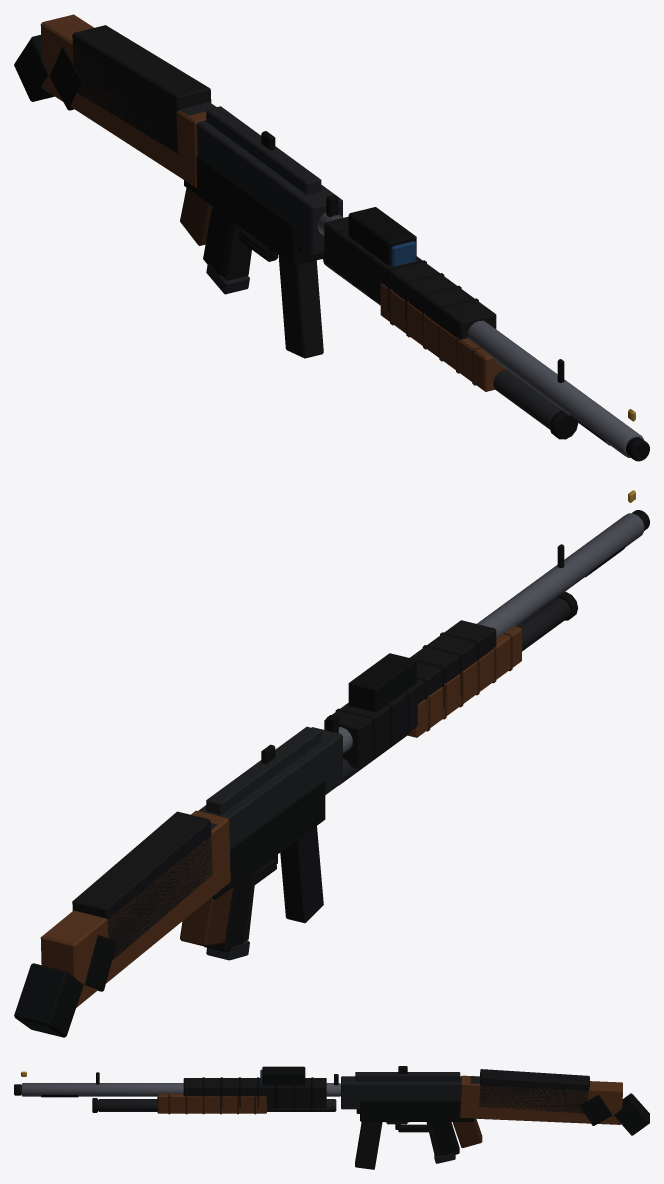
The model's file is weapons.glb.
3 views of the same model, one above another, from view 1: azimuth 30°, elevation 25°; view 2: azimuth 150°, elevation 25°; view 3: azimuth 270°, elevation 25° (orthographic). The views are drawn at different scales.
Parts seen in each view (by area): view 1: rifle, shotgun, pistol; view 2: rifle, shotgun, pistol; view 3: rifle, shotgun, pistol.
Part boxes in pixels (left/top/right/bottom): rifle: left=49, top=25, right=609, bottom=445; shotgun: left=14, top=14, right=649, bottom=461; pistol: left=206, top=220, right=251, bottom=294; rifle: left=72, top=544, right=625, bottom=991; shotgun: left=14, top=490, right=649, bottom=1037; pistol: left=206, top=870, right=256, bottom=960; rifle: left=41, top=1066, right=612, bottom=1169; shotgun: left=14, top=1071, right=649, bottom=1148; pistol: left=385, top=1122, right=455, bottom=1163.
Bounding box in the file's own units: 0.05 × 0.2338 × 1.33.
